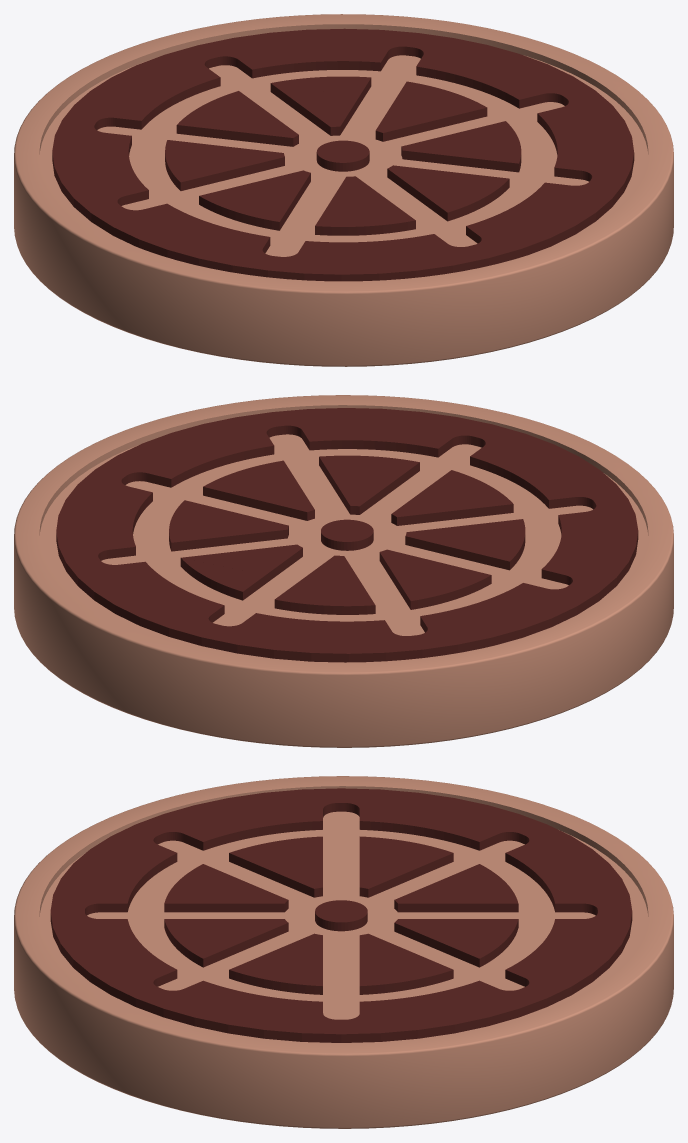
File: Wheel_W.fbx
3 renders of one model, top to bottom at view 1: azimuth 30°, elevation 25°; view 2: azimuth 150°, elevation 25°; view 3: azimuth 270°, elevation 25°, orthographic.
Parts seen in each view (by area): view 1: Tile09.002; view 2: Tile09.002; view 3: Tile09.002.
Part boxes in pixels (box(x1,y1,x2,y2)): Tile09.002: box(14, 14, 673, 366); Tile09.002: box(14, 395, 673, 747); Tile09.002: box(14, 776, 673, 1128).
Size of the model in its own units: 13.25 by 1.72 by 13.25.
